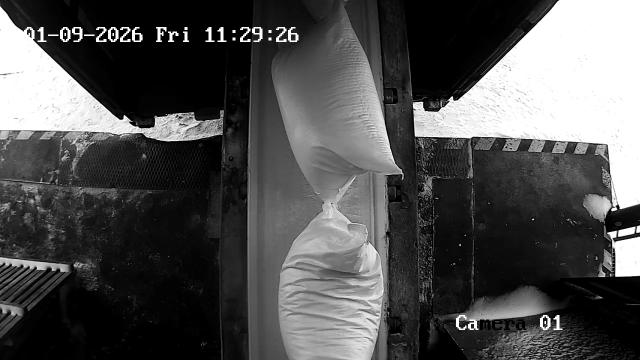bag: (271, 1, 404, 202), (277, 206, 383, 360)
